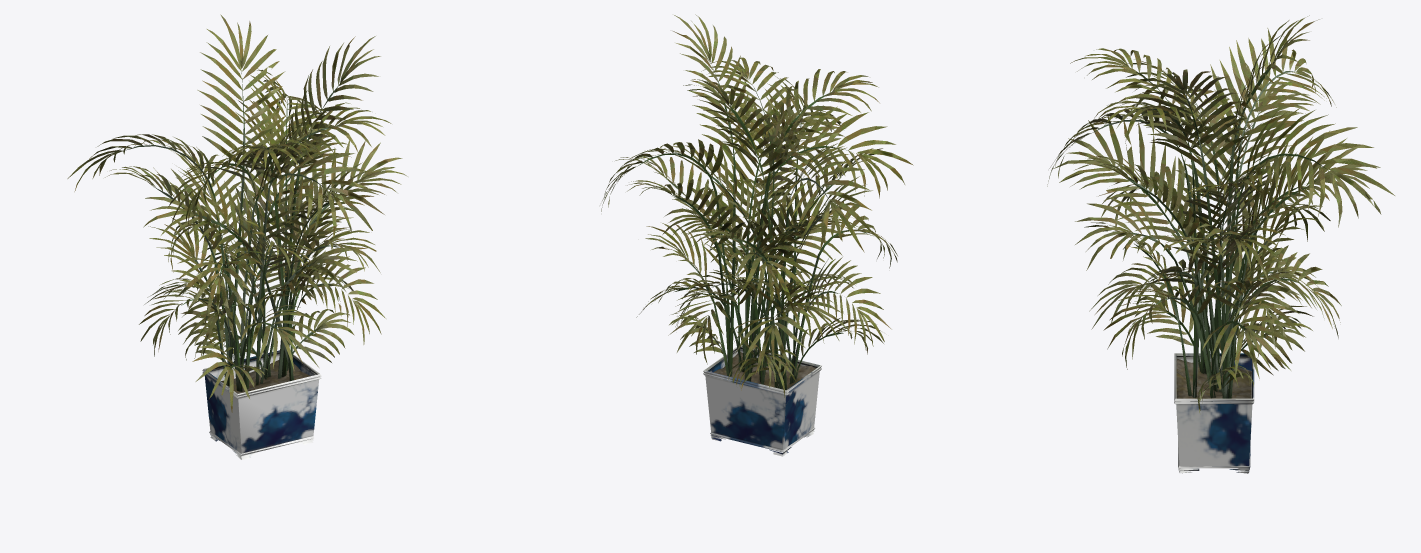
Rendered from raw_model.obj.
3 renders of one model, left to right at view 1: azimuth 30°, elevation 25°; view 2: azimuth 150°, elevation 25°; view 3: azimuth 270°, elevation 25°, orthographic. The views are drawn at different scales.
Visible parts, largest first — view 1: solid_004, solid_003, solid_001, solid_002; view 2: solid_004, solid_003, solid_001, solid_002; view 3: solid_004, solid_003, solid_001, solid_002.
Part boxes in pixels (<box>): solid_004: <box>67,14,407,412</box>; solid_003: <box>125,72,351,391</box>; solid_001: <box>202,350,321,459</box>; solid_002: <box>221,360,310,393</box>; solid_004: <box>601,14,913,397</box>; solid_003: <box>637,69,867,389</box>; solid_001: <box>703,346,821,456</box>; solid_002: <box>713,352,815,404</box>; solid_004: <box>1047,15,1394,412</box>; solid_003: <box>1091,61,1327,398</box>; solid_001: <box>1174,353,1254,473</box>; solid_002: <box>1176,359,1251,398</box>.
Size of the model in its own units: 1.36 by 1.6 by 1.23.
Materials: 1 (1 with a texture image).
